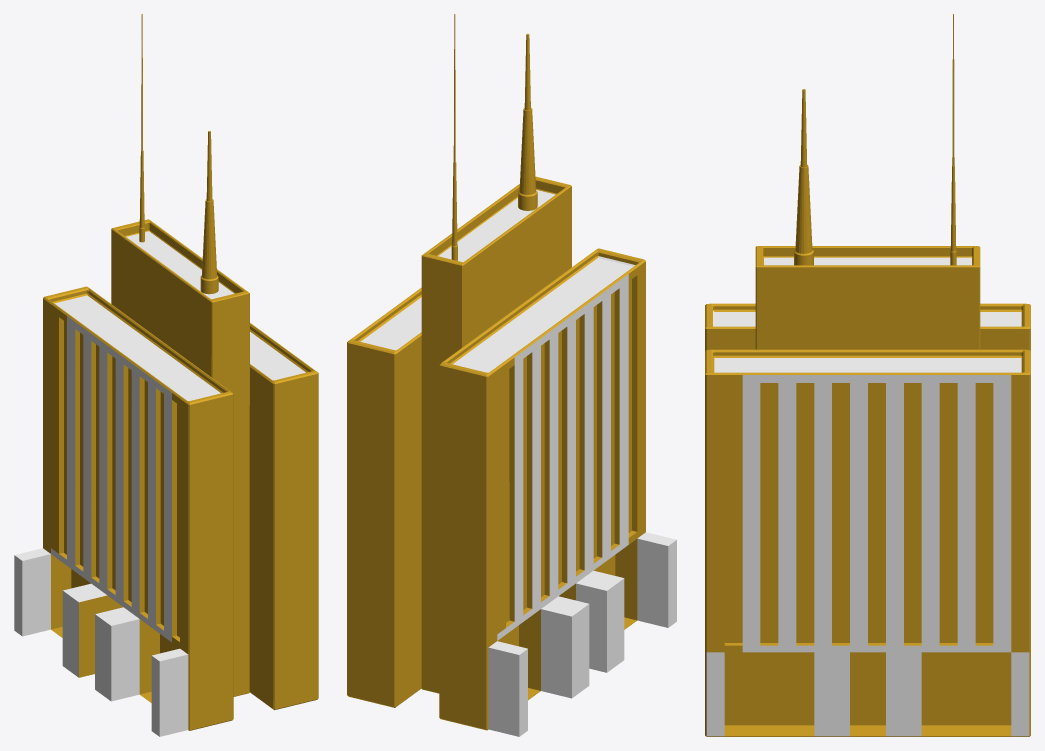
The model's file is Building_23_Yellow.glb.
The picture shows the model from 3 angles, left to right: view 1: azimuth 30°, elevation 25°; view 2: azimuth 150°, elevation 25°; view 3: azimuth 270°, elevation 25°; orthographic projection. The views are drawn at different scales.
Visible parts, largest first — view 1: pCube10; view 2: pCube10; view 3: pCube10.
Boxes of the visible parts, left/top/right/bottom form: pCube10: left=14, top=14, right=318, bottom=736; pCube10: left=347, top=14, right=676, bottom=736; pCube10: left=705, top=14, right=1030, bottom=736.
Bounding box in the file's own units: 1291 × 4810 × 2064.
